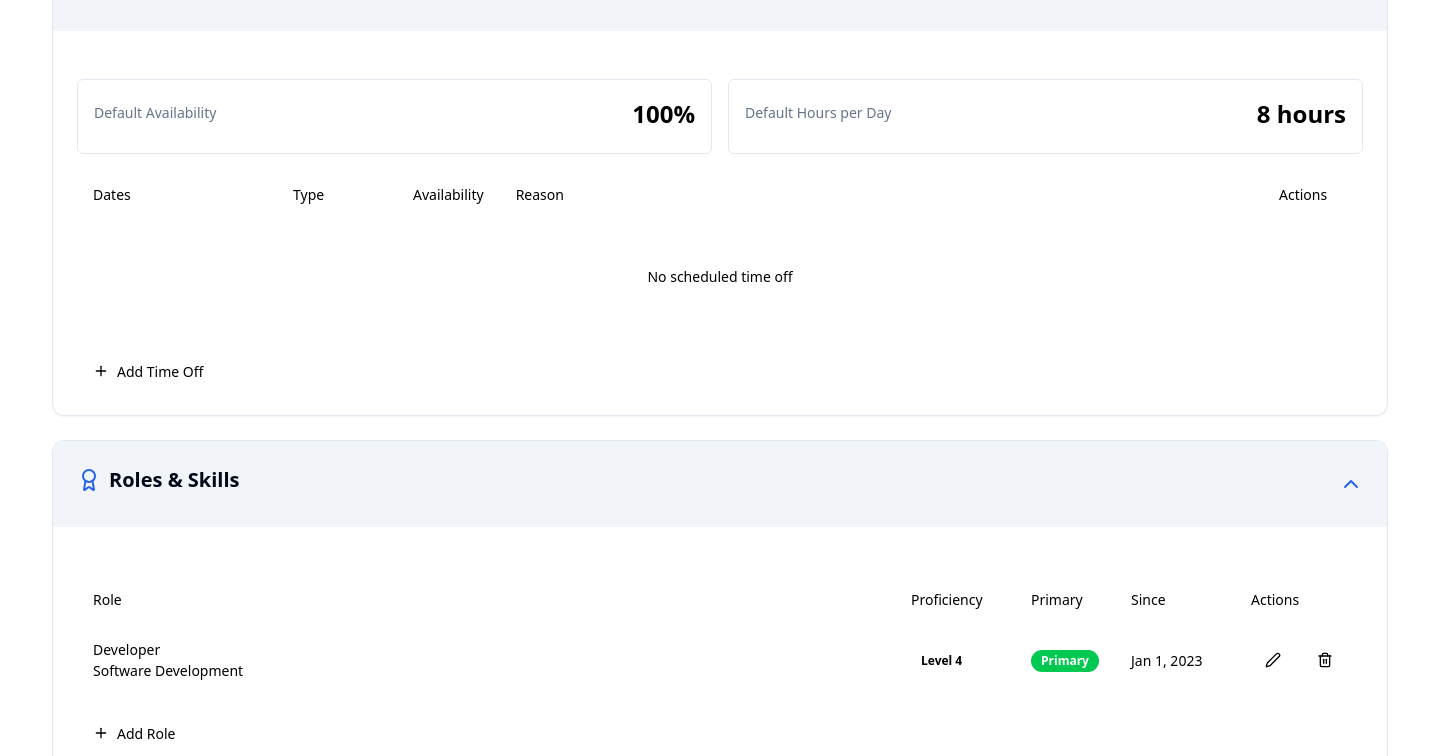
Test: PersonDetails › Time Off Editing Workflow › renders new time off entry form with inputs
(page scrolled)
Click the button "Add Time Off" at point(148, 371), box [77, 351, 219, 391]
(page scrolled)
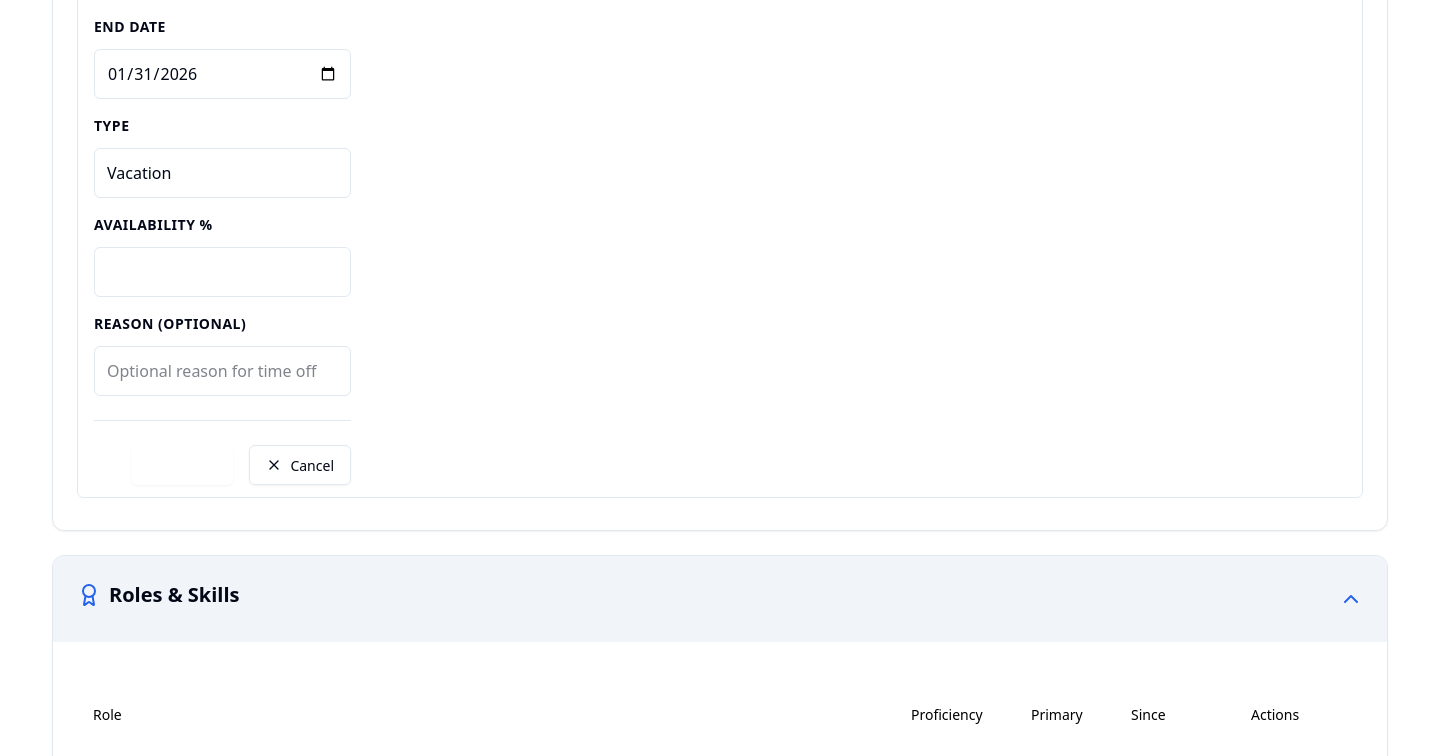
Expected: the button "Cancel" is shown, [249, 445, 351, 485]
Expected: the field is shown, [94, 346, 351, 396]
